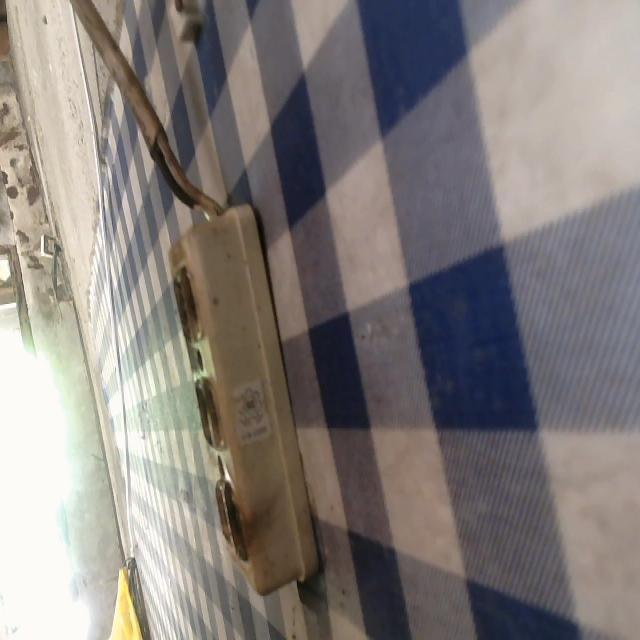-: (212, 479, 247, 556), (193, 373, 224, 456), (167, 264, 199, 337)
